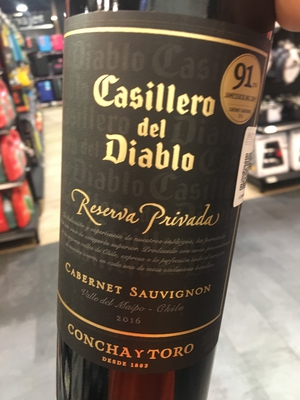casillero del diablo reserva privada cabernet sauvignon: (45, 9, 283, 383)
